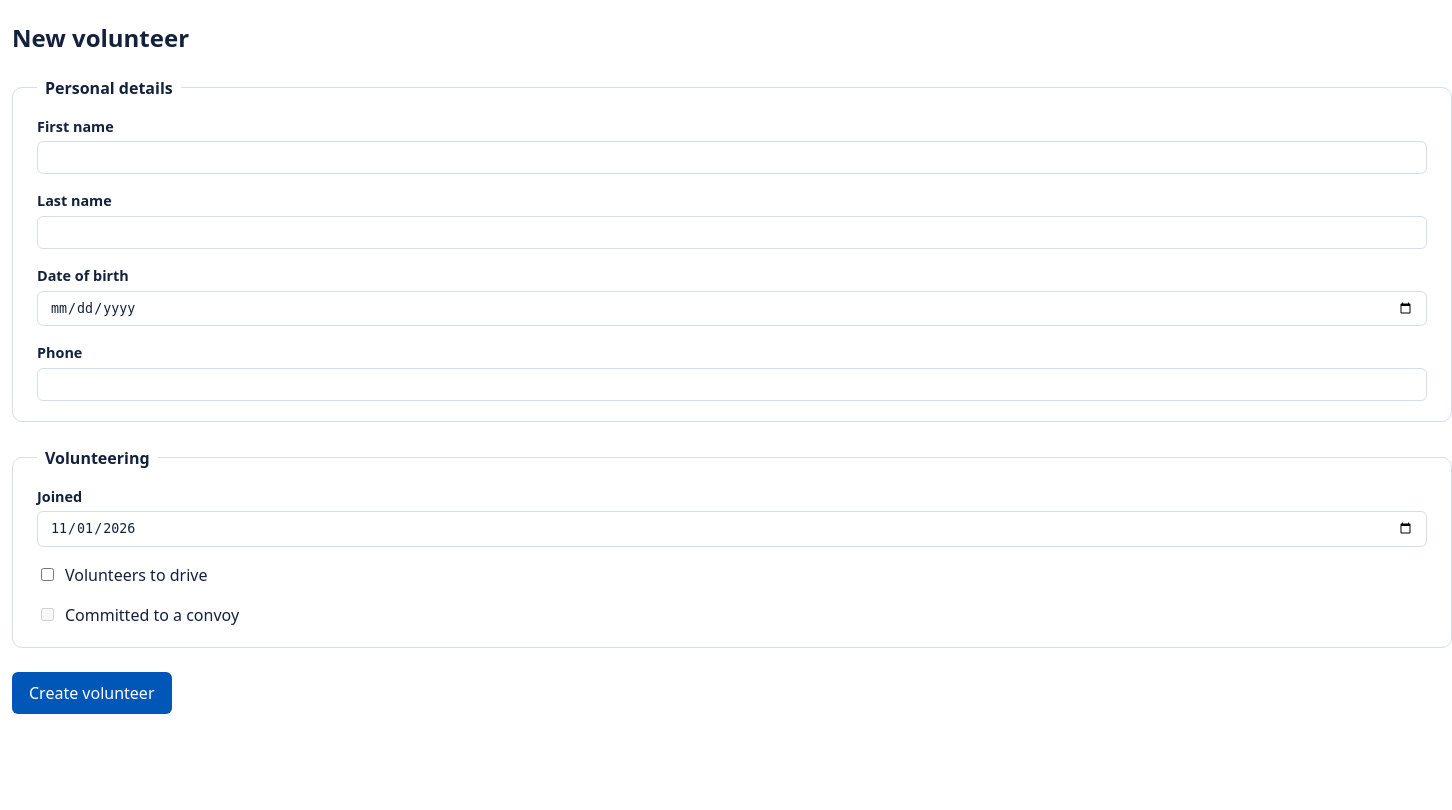
Test case: keeps "Committed" disabled until the volunteer is a driver
Check: the checkbox labelled "Committed to a convoy" is disabled, box x1=41 y1=608 x2=54 y2=621
Step 1. Click the checkbox labelled "Volunteers to drive" → (48, 574), box x1=41 y1=568 x2=54 y2=581
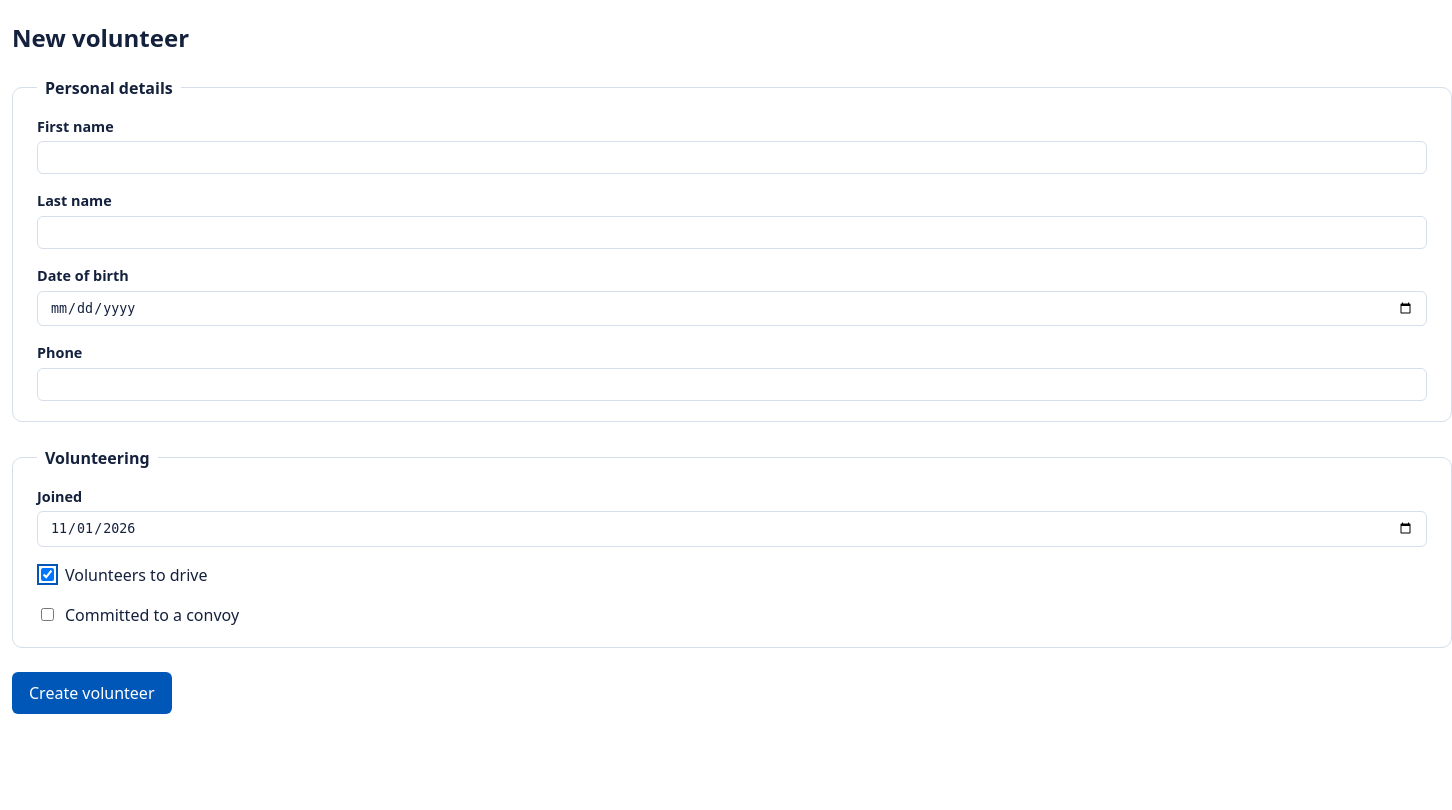
Check: the checkbox labelled "Committed to a convoy" is enabled, box x1=41 y1=608 x2=54 y2=621
